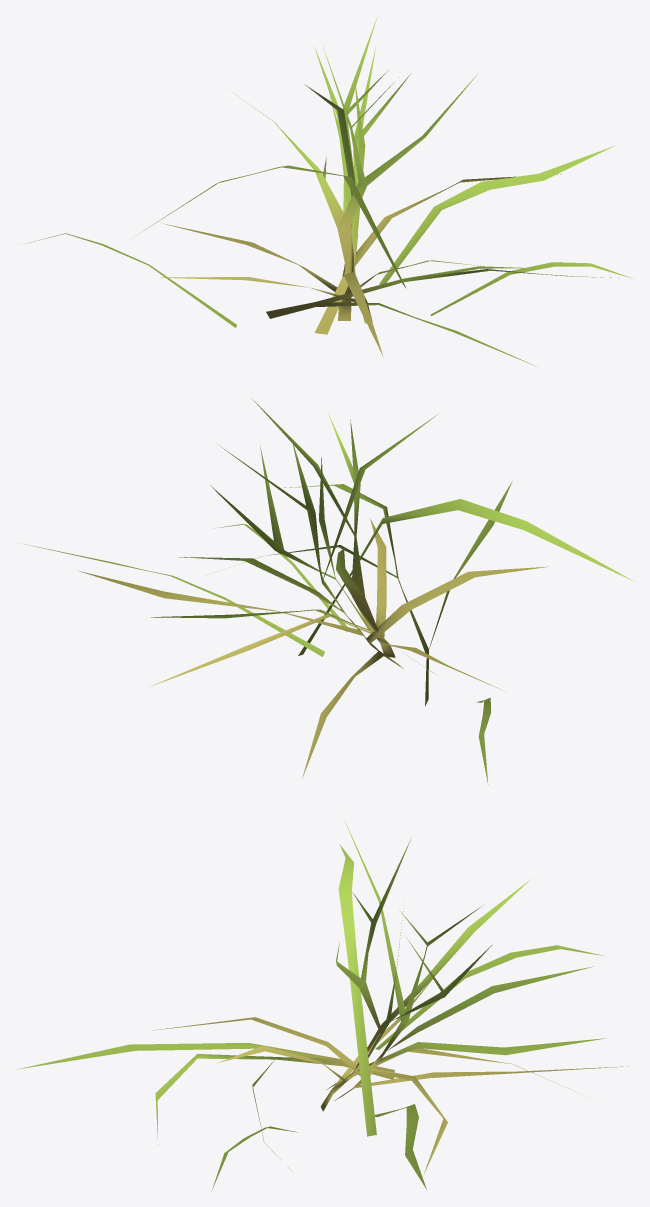
File: capim_bq_d_lo.glb
3 views of the same model, one above another, from view 1: azimuth 30°, elevation 25°; view 2: azimuth 150°, elevation 25°; view 3: azimuth 270°, elevation 25° (orthographic). The views are drawn at different scales.
Parts seen in each view (by area): view 1: capim_bq_d_lo; view 2: capim_bq_d_lo; view 3: capim_bq_d_lo.
Part boxes in pixels (<box>): capim_bq_d_lo: <box>26,17,633,367</box>; capim_bq_d_lo: <box>22,398,634,784</box>; capim_bq_d_lo: <box>16,819,628,1189</box>.
Bounding box in the file's own units: 19.07 × 8.81 × 17.95.
1 material, 1 textured.
